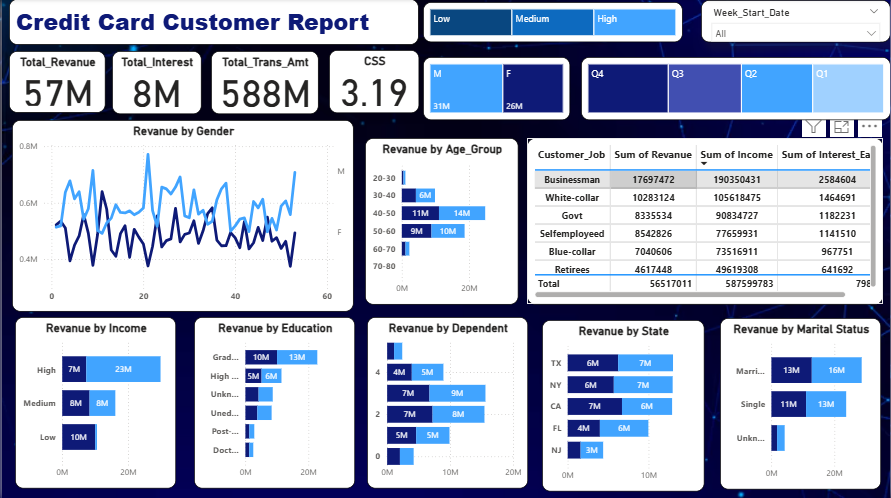

The dashboard page shown, as its layout file describes it:
{"tool":"powerbi","page":{"name":"CCCR","canvas":[1280,720],"ordinal":1},"visuals":[{"type":"textbox","box":[10.2,0,590.3,65.8],"z":0},{"type":"tableEx","fields":{"Values":["customer.Customer_Job","Sum(CreditCard.Revanue)","Sum(customer.Income)","Sum(CreditCard.Interest_Earned)"]},"box":[755.4,200.2,512.9,239.6],"z":1000},{"type":"card","title":"Total_Revanue","fields":{"Values":["Sum(CreditCard.Revanue)"]},"box":[10.2,74.5,138.8,89.1],"z":2000},{"type":"card","title":"Total_Interest","fields":{"Values":["Sum(CreditCard.Interest_Earned)"]},"box":[157.8,74.5,128.6,90.6],"z":3000},{"type":"card","title":"Total_Trans_Amt","fields":{"Values":["Sum(customer.Income)"]},"box":[301,74.5,154.9,90.6],"z":4000},{"type":"card","title":"CSS","fields":{"Values":["Avg(customer.Cust_Satisfaction_Score)"]},"box":[470.5,73.1,130,90.6],"z":5000},{"type":"barChart","title":" Revanue by Marital Status","fields":{"Y":["Sum(CreditCard.Revanue)"],"Category":["customer.Marital_Status"],"Series":["customer.Gender"]},"box":[1034.5,458.8,232.3,246.9],"z":6000},{"type":"slicer","fields":{"Values":["CreditCard.Week_Start_Date"]},"box":[1006.8,1.5,273.2,61.4],"z":7000},{"type":"treemap","fields":{"Group":["customer.IncomeGroup"],"Values":["Avg(CreditCard.Client_Num)"]},"box":[606.4,4.4,374.1,58.4],"z":8000},{"type":"treemap","fields":{"Group":["customer.Gender"],"Values":["Sum(CreditCard.Revanue)"]},"box":[606.4,83.3,211.9,90.6],"z":9000},{"type":"lineChart","title":" Revanue by  Gender","fields":{"Category":["CreditCard.WeekNum2","CreditCard.Week_Start_Date.Variation.Date Hierarchy.Quarter","CreditCard.Week_Start_Date.Variation.Date Hierarchy.Month","CreditCard.Week_Start_Date.Variation.Date Hierarchy.Day"],"Series":["customer.Gender"],"Y":["Sum(CreditCard.Revanue)"]},"box":[14.6,173.9,492.4,276.2],"z":10000},{"type":"barChart","title":" Revanue by Income","fields":{"Y":["Sum(CreditCard.Revanue)"],"Category":["customer.IncomeGroup"],"Series":["customer.Gender"]},"box":[19,457.4,232.3,246.9],"z":11000},{"type":"barChart","title":" Revanue by State","fields":{"Y":["Sum(CreditCard.Revanue)"],"Category":["customer.state_cd","customer.IncomeGroup"],"Series":["customer.Gender"]},"box":[777.4,461.7,233.8,246.9],"z":12000},{"type":"barChart","title":" Revanue by Education","fields":{"Y":["Sum(CreditCard.Revanue)"],"Category":["customer.Education_Level"],"Series":["customer.Gender"]},"box":[276.2,457.4,232.3,246.9],"z":13000},{"type":"barChart","title":" Revanue by Age_Group","fields":{"Y":["Sum(CreditCard.Revanue)"],"Category":["customer.AgeGroup"],"Series":["customer.Gender"]},"box":[523.1,200.2,220.6,239.6],"z":14000},{"type":"treemap","fields":{"Group":["CreditCard.Qtr"],"Values":["Avg(CreditCard.Client_Num)"]},"box":[834.3,83.3,445.7,90.6],"z":15000},{"type":"barChart","title":" Revanue by Dependent","fields":{"Y":["Sum(CreditCard.Revanue)"],"Category":["customer.Dependent_Count"],"Series":["customer.Gender"]},"box":[526,457.4,232.3,246.9],"z":16000}]}

Visuals, with their boxes in screenshot pixels (x1, y1, x2, y2), scaled from the page's 1280x720 canvas onto the 891x498 screenshot:
textbox: (left=7, top=0, right=418, bottom=46)
tableEx - customer.Customer_Job x Sum(CreditCard.Revanue): (left=526, top=138, right=883, bottom=304)
"Total_Revanue" card: (left=7, top=52, right=104, bottom=113)
"Total_Interest" card: (left=110, top=52, right=199, bottom=114)
"Total_Trans_Amt" card: (left=210, top=52, right=317, bottom=114)
"CSS" card: (left=328, top=51, right=418, bottom=113)
" Revanue by Marital Status" barChart: (left=720, top=317, right=882, bottom=488)
slicer - CreditCard.Week_Start_Date: (left=701, top=1, right=890, bottom=44)
treemap - customer.IncomeGroup x Avg(CreditCard.Client_Num): (left=422, top=3, right=683, bottom=43)
treemap - customer.Gender x Sum(CreditCard.Revanue): (left=422, top=58, right=570, bottom=120)
" Revanue by  Gender" lineChart: (left=10, top=120, right=353, bottom=311)
" Revanue by Income" barChart: (left=13, top=316, right=175, bottom=487)
" Revanue by State" barChart: (left=541, top=319, right=704, bottom=490)
" Revanue by Education" barChart: (left=192, top=316, right=354, bottom=487)
" Revanue by Age_Group" barChart: (left=364, top=138, right=518, bottom=304)
treemap - CreditCard.Qtr x Avg(CreditCard.Client_Num): (left=581, top=58, right=890, bottom=120)
" Revanue by Dependent" barChart: (left=366, top=316, right=528, bottom=487)
